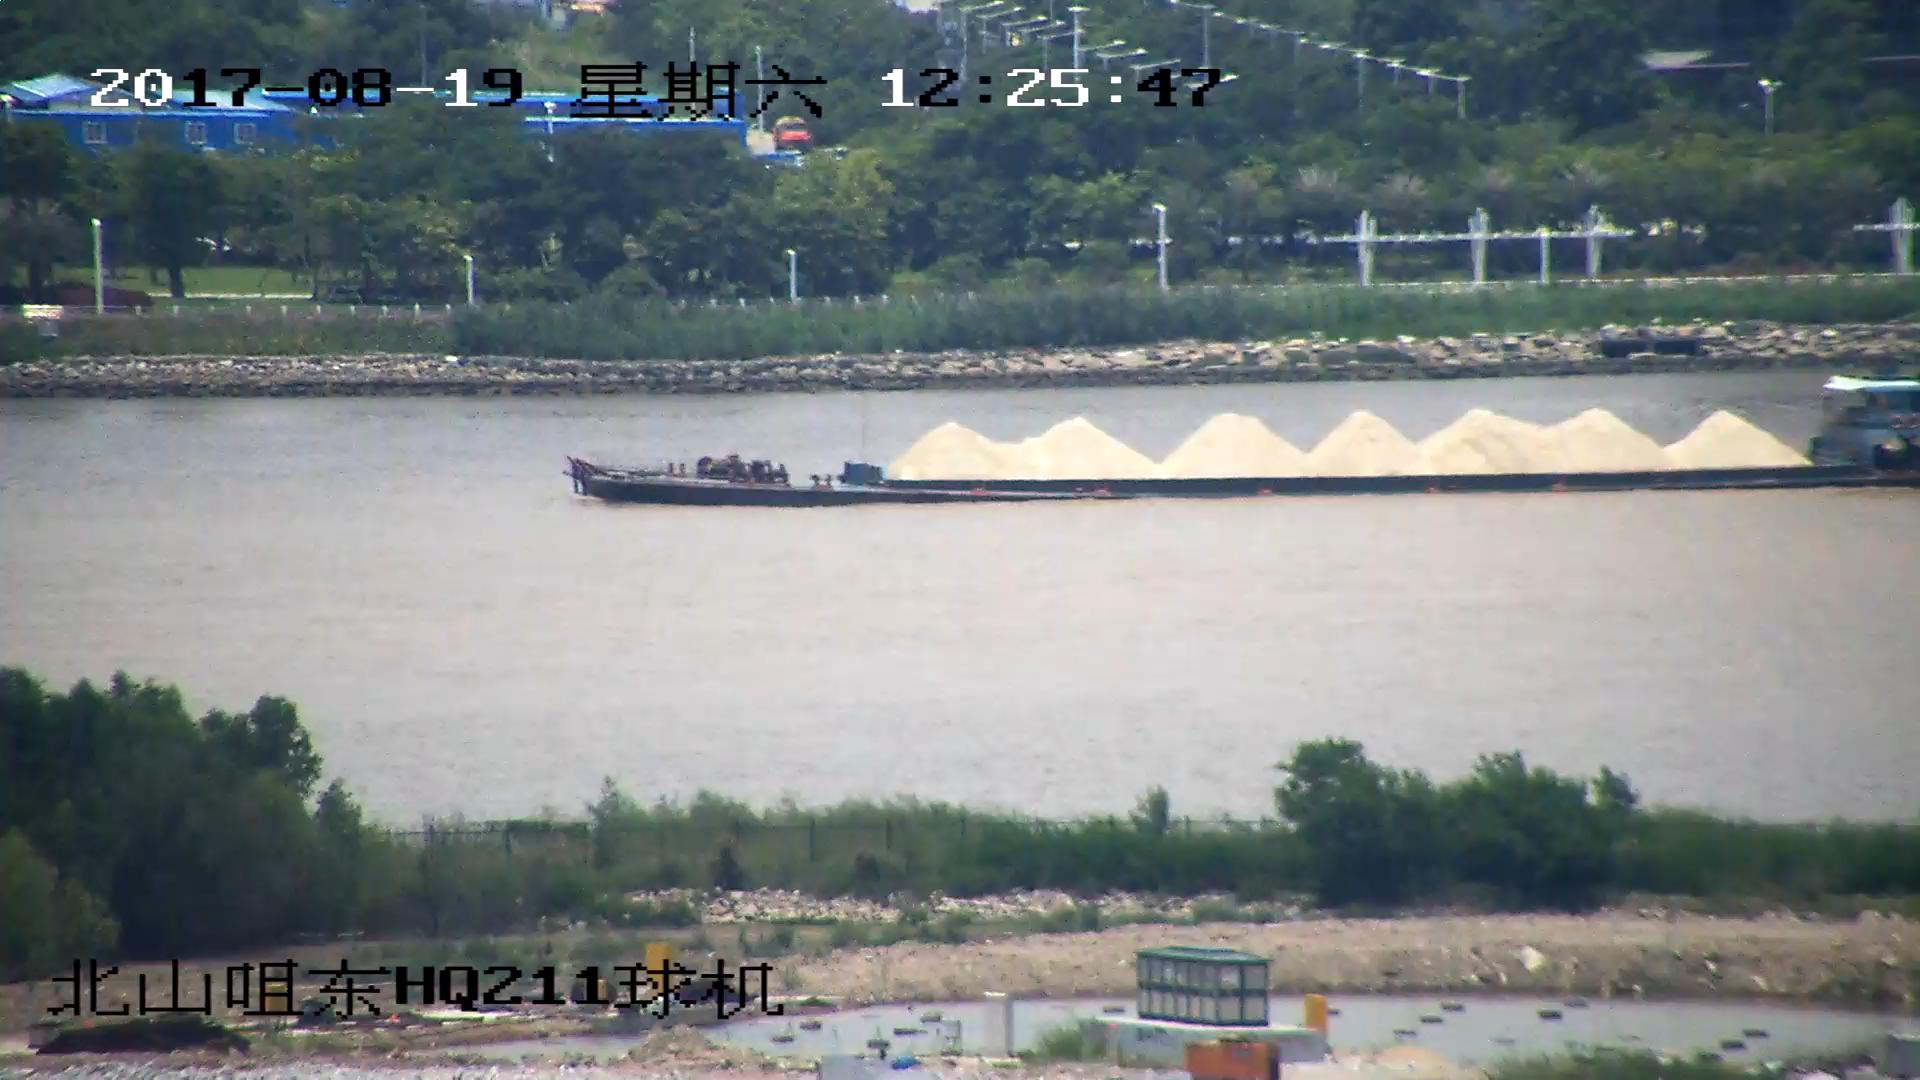ore carrier: (571, 374, 1920, 505)
